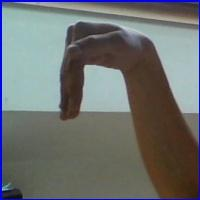del: (60, 19, 166, 133)
